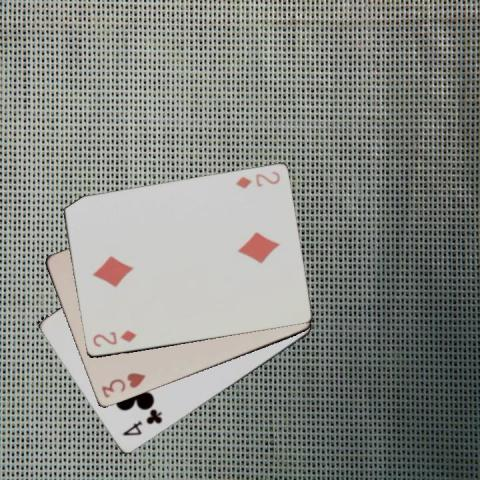2d: (232, 168, 281, 190), (90, 327, 138, 349)
3h: (98, 370, 147, 400)
4c: (119, 407, 164, 438)
